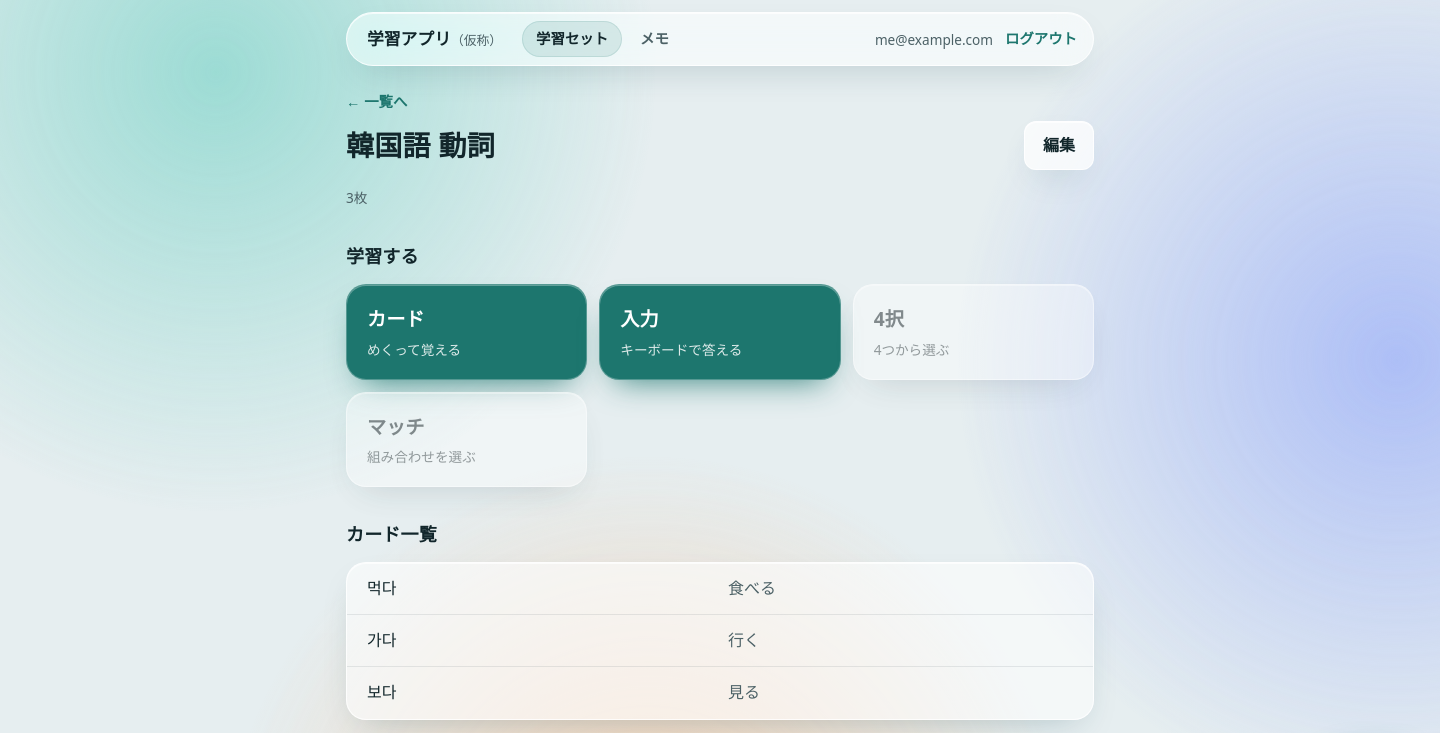
Test: 4枚未満のセット › 「マッチ」の札は暗く押せず、マウスを乗せると理由の吹き出しが出る
Hover over the link "マッチ 組み合わせを選ぶ" at (467, 440), box left=346, top=392, right=587, bottom=487
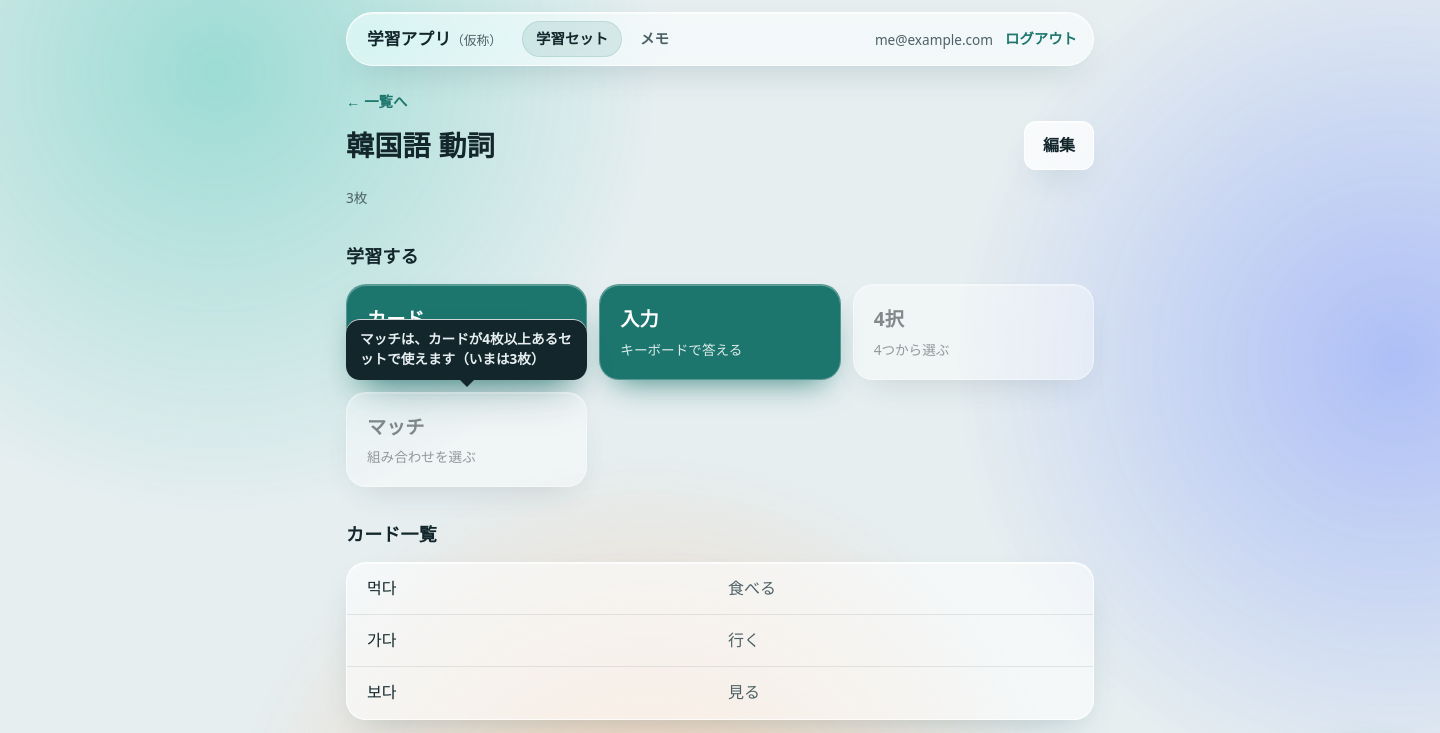
Expected: the tooltip reads "マッチは、カードが4枚以上あるセットで使えます（いまは3枚）", left=360, top=329, right=572, bottom=368
